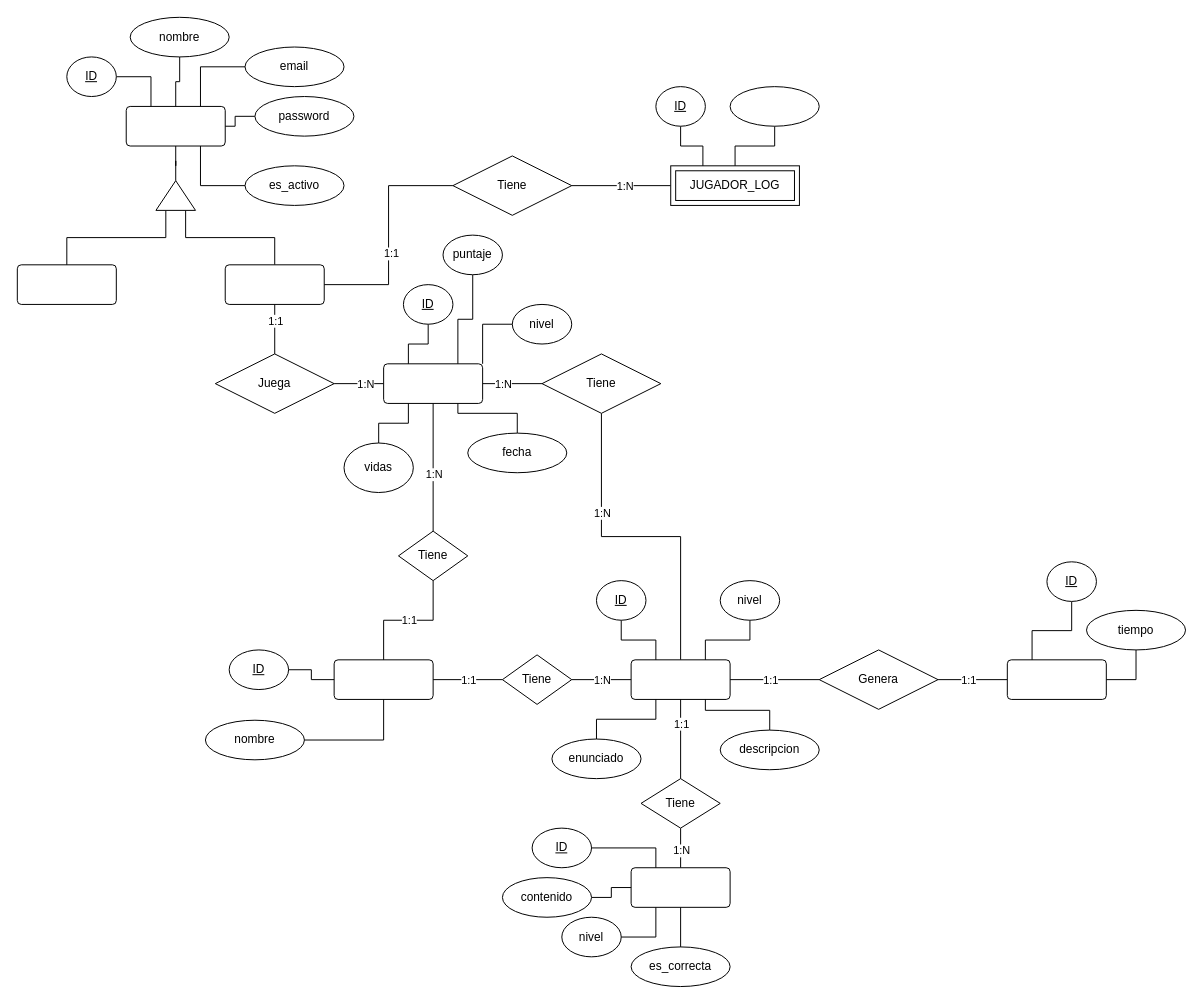
The diagram is 1203 pixels wide and 1004 high, and some of its shapes have lost their labels. Here are the shapes that lost their labels. From the top down, the centre of each, then its label:
point 175,125: USUARIO
point 774,106: fecha_hora
point 66,284: ADMIN
point 274,284: JUGADOR
point 433,383: PARTIDA
point 383,679: CATEGORÍA
point 680,679: PREGUNTA
point 1056,679: RESPUESTA
point 680,887: OPCION
